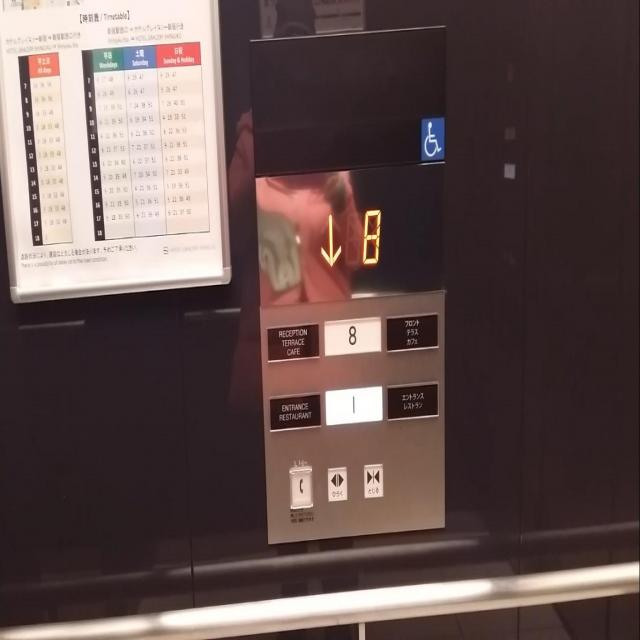1: (323, 384, 383, 427)
8: (322, 316, 382, 356)
CH: (419, 113, 446, 161)
call: (286, 464, 314, 513)
close: (361, 459, 384, 501)
led: (253, 160, 447, 308)
open: (325, 463, 348, 505)
